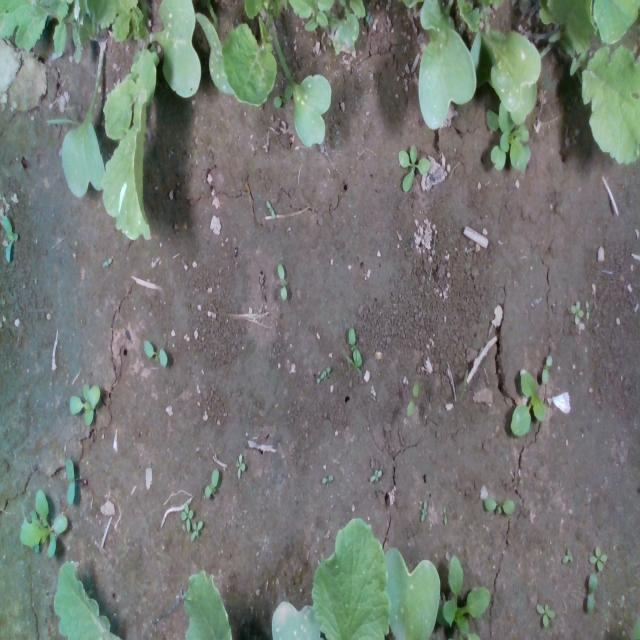weed: (396, 142, 430, 192), (142, 338, 168, 366), (483, 495, 515, 515), (64, 454, 76, 507), (347, 326, 362, 366), (587, 543, 607, 572), (586, 570, 598, 615), (536, 602, 556, 628), (405, 378, 418, 418), (276, 262, 288, 302), (204, 466, 218, 500), (180, 498, 193, 532), (569, 298, 583, 324), (541, 352, 552, 385), (235, 452, 245, 479), (264, 200, 276, 220), (368, 466, 382, 482), (420, 496, 428, 521), (561, 548, 573, 564), (441, 502, 447, 524), (321, 473, 333, 483), (585, 298, 589, 320)
